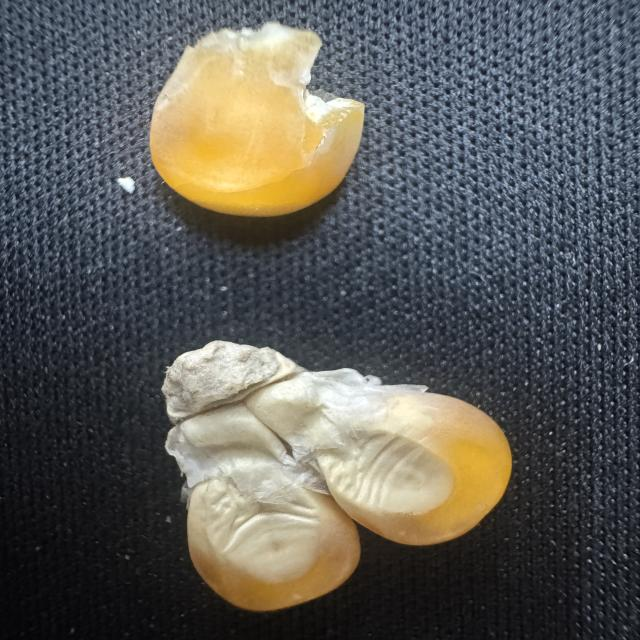Bad-Seed: (155, 331, 520, 613), (141, 17, 369, 222)
